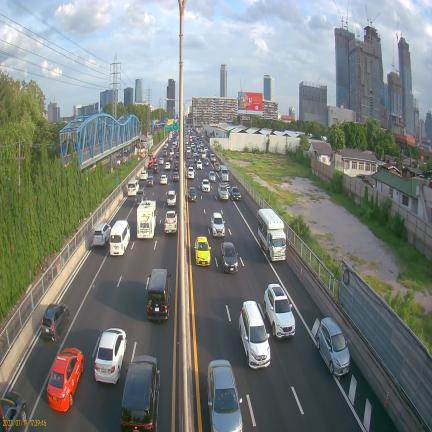bus: (137, 200, 157, 238)
car: (207, 359, 243, 432), (239, 301, 270, 368), (316, 317, 350, 376), (94, 328, 127, 384), (263, 284, 295, 338), (41, 304, 69, 342), (221, 242, 238, 273), (93, 223, 110, 246), (211, 212, 225, 236), (218, 183, 229, 201), (167, 190, 176, 206), (188, 187, 197, 201), (201, 179, 210, 192), (140, 169, 148, 180), (146, 176, 154, 187), (209, 171, 216, 182)
pickup: (164, 210, 177, 234), (135, 188, 147, 205)
taxi: (47, 348, 84, 411), (194, 236, 211, 265)
truck: (257, 208, 286, 261)
van: (121, 355, 160, 432), (147, 269, 171, 320), (110, 220, 130, 255), (128, 179, 139, 196)
